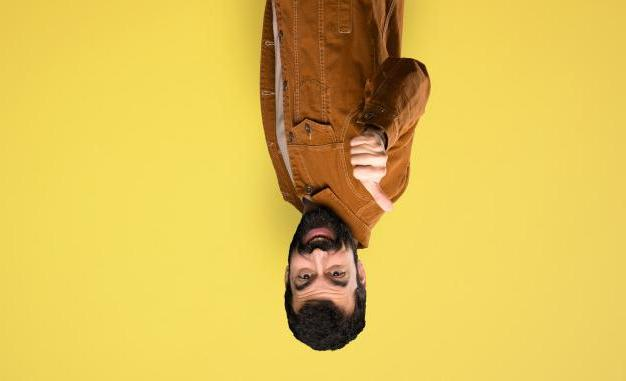thumbsdown: (349, 134, 393, 212)
